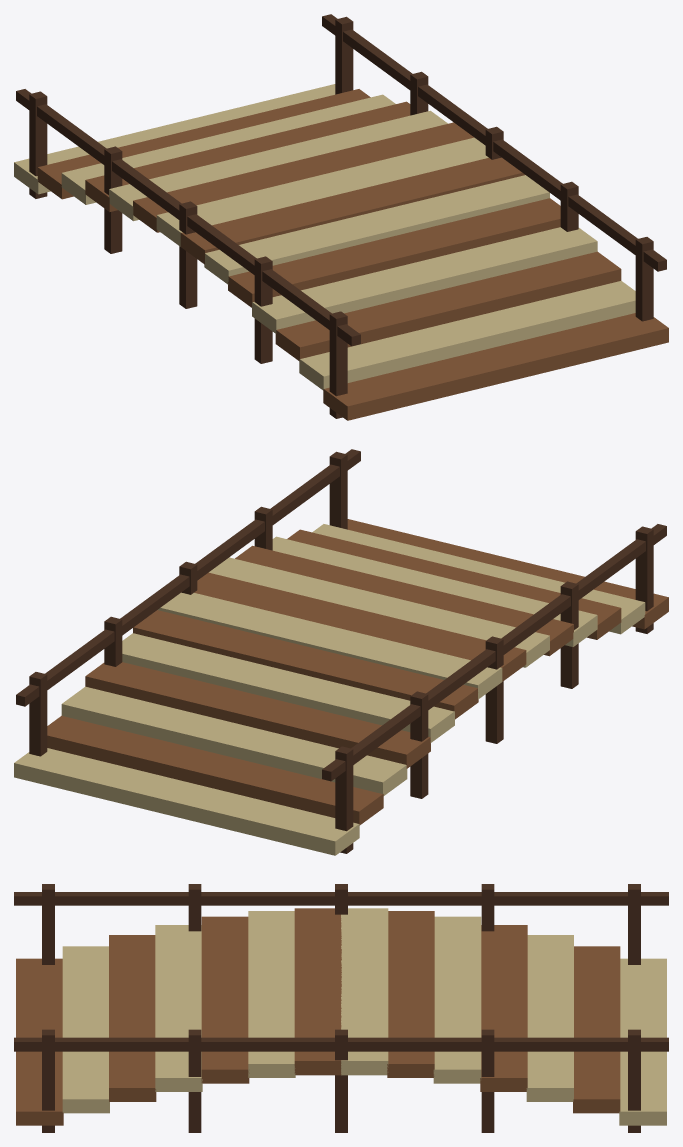
Rendered from pond_bridge.glb.
The picture shows the model from 3 angles, top to bottom: view 1: azimuth 30°, elevation 25°; view 2: azimuth 150°, elevation 25°; view 3: azimuth 270°, elevation 25°; orthographic projection. The views are drawn at different scales.
Visible parts, largest first — view 1: plank_13, plank_12, plank_11, plank_10, plank_9, plank_8, plank_7, plank_6, plank_5, plank_4, rail_-1, rail_1 (+13 smaller); view 2: plank_0, plank_1, plank_2, plank_3, plank_4, plank_5, plank_6, plank_7, plank_8, plank_9, rail_-1, rail_1 (+13 smaller); view 3: rail_1, rail_-1, plank_4, plank_9, plank_1, plank_12, plank_6, plank_2, plank_11, plank_5, plank_8, plank_7 (+14 smaller).
Part boxes in pixels (bbox=[...]): plank_13: bbox=[323, 313, 668, 420]; plank_12: bbox=[299, 280, 635, 390]; plank_11: bbox=[275, 251, 621, 361]; plank_10: bbox=[252, 227, 597, 333]; plank_9: bbox=[228, 198, 560, 307]; plank_8: bbox=[204, 175, 549, 284]; plank_7: bbox=[180, 157, 524, 264]; plank_6: bbox=[156, 137, 488, 246]; plank_5: bbox=[133, 122, 473, 232]; plank_4: bbox=[109, 110, 447, 221]; rail_-1: bbox=[16, 89, 360, 346]; rail_1: bbox=[322, 14, 666, 271]; plank_0: bbox=[14, 748, 359, 855]; plank_1: bbox=[47, 715, 383, 825]; plank_2: bbox=[61, 686, 407, 795]; plank_3: bbox=[85, 662, 430, 768]; plank_4: bbox=[122, 633, 454, 742]; plank_5: bbox=[133, 610, 478, 719]; plank_6: bbox=[158, 592, 502, 699]; plank_7: bbox=[194, 572, 526, 681]; plank_8: bbox=[209, 557, 549, 667]; plank_9: bbox=[235, 545, 573, 656]; rail_-1: bbox=[322, 524, 666, 781]; rail_1: bbox=[16, 449, 360, 706]; rail_1: bbox=[14, 1037, 668, 1051]; rail_-1: bbox=[14, 892, 668, 905]; plank_4: bbox=[433, 916, 481, 1083]; plank_9: bbox=[201, 916, 249, 1083]; plank_1: bbox=[573, 946, 620, 1113]; plank_12: bbox=[62, 946, 109, 1113]; plank_6: bbox=[341, 908, 388, 1075]; plank_2: bbox=[526, 935, 573, 1101]; plank_11: bbox=[109, 935, 156, 1101]; plank_5: bbox=[387, 911, 434, 1077]; plank_8: bbox=[248, 911, 295, 1077]; plank_7: bbox=[294, 908, 341, 1075].
Size of what is drawn, in the model's own units: 4.2 by 1.25 by 7.6.
